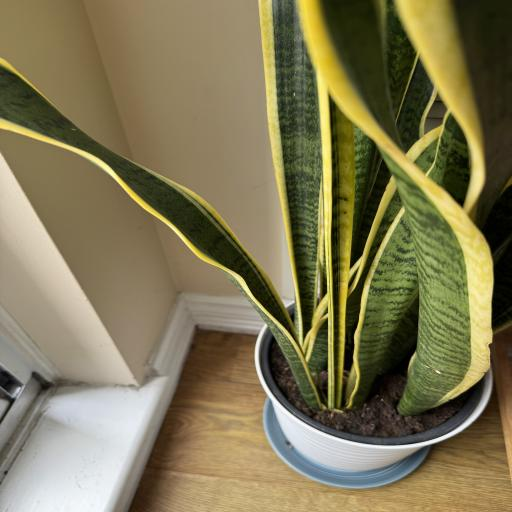Plant Pot: (249, 268, 495, 464)
